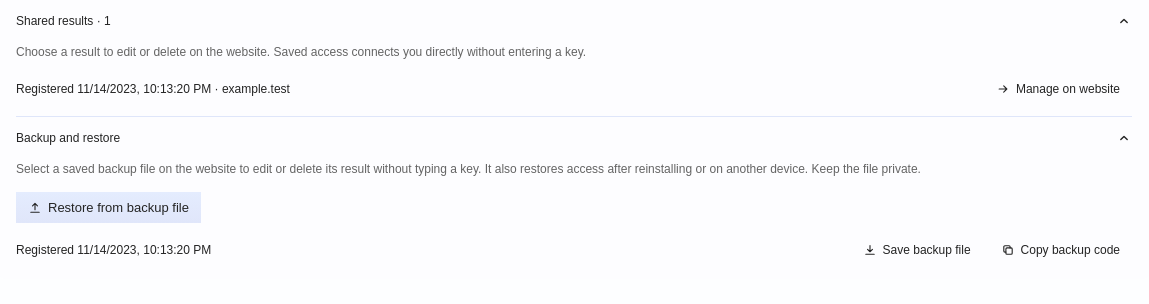
it: owned recovery list › explains a not_found connection failure without displaying native details
Click the button "Manage on website" at (1058, 89), box [984,74,1132,104]
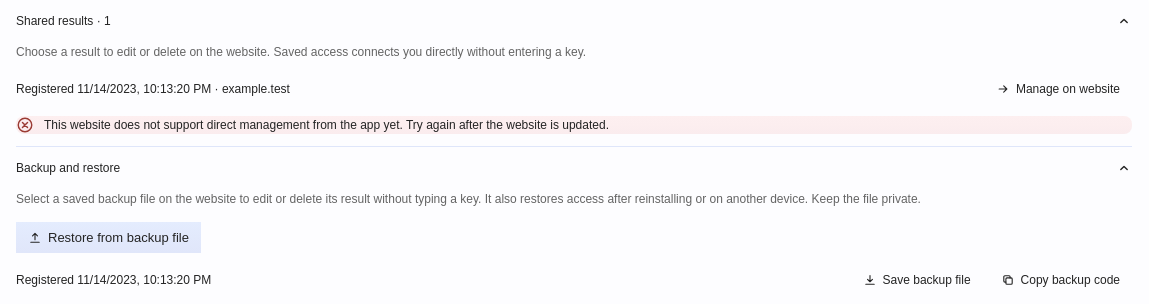
Result: the message shows "This website does not support direct management from the app yet. Try again after the website is updated." at [44,118,609,132]
